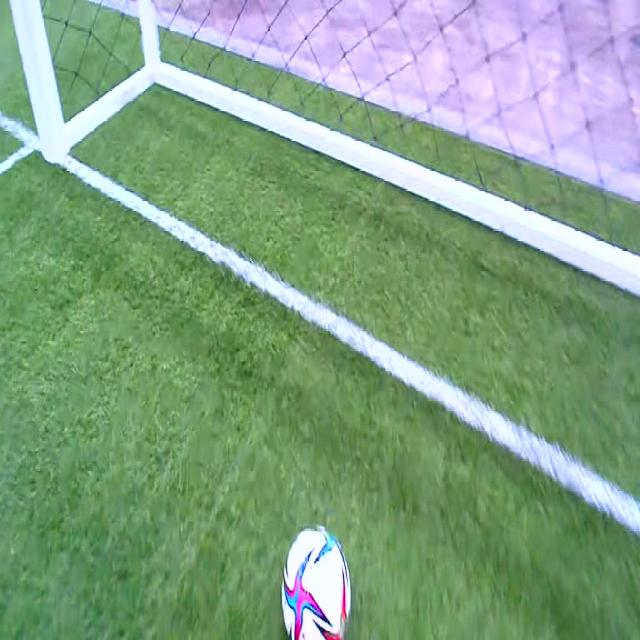ball: (283, 525, 350, 640)
